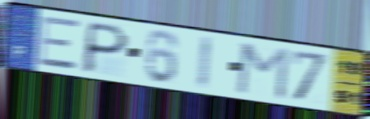6: (144, 28, 179, 85)
7: (290, 48, 331, 104)
E: (36, 15, 81, 72)
I: (195, 34, 215, 91)
M: (233, 41, 291, 102)
P: (79, 20, 132, 76)
